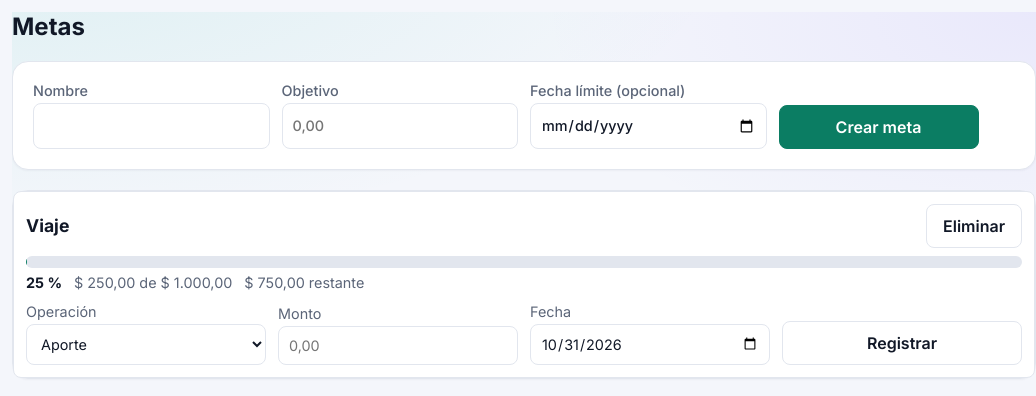
it: MetasView › envía un retiro como monto negativo
Select "Retiro" in the dropdown labelled "Operación" at (146,344), box x1=26 y1=324 x2=266 y2=365
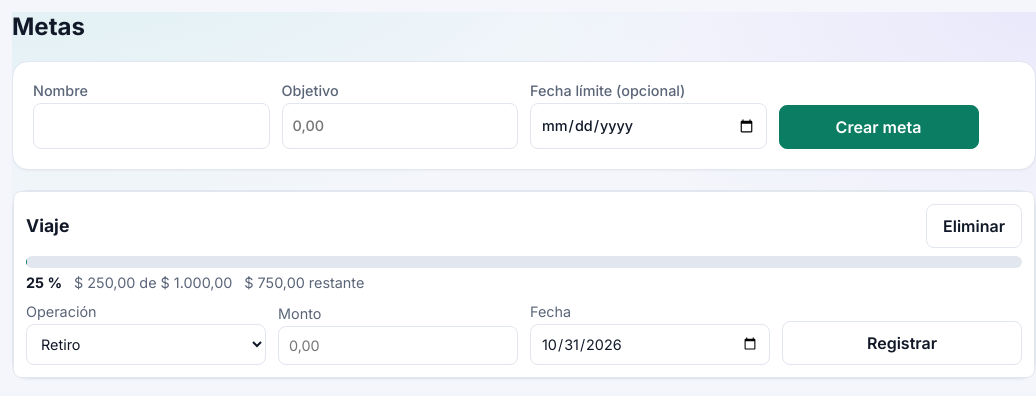
Type "100" into the field labelled "Monto" at (398,345), box x1=278 y1=326 x2=518 y2=365
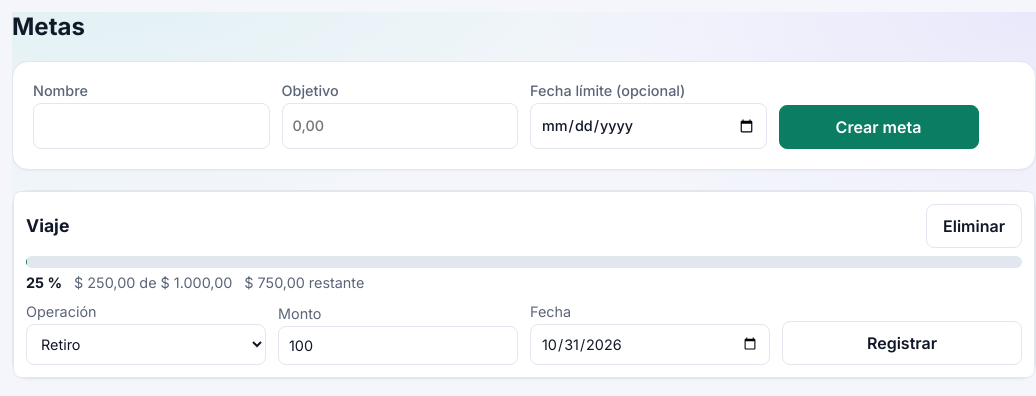
Submit the form with class "aporte", box x1=26 y1=303 x2=1022 y2=365
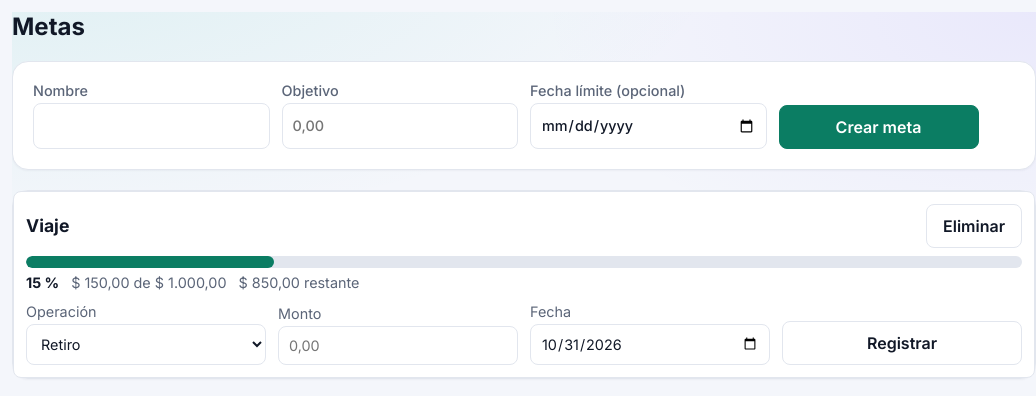
Check: the text "15 %" is shown, box x1=26 y1=274 x2=59 y2=291
